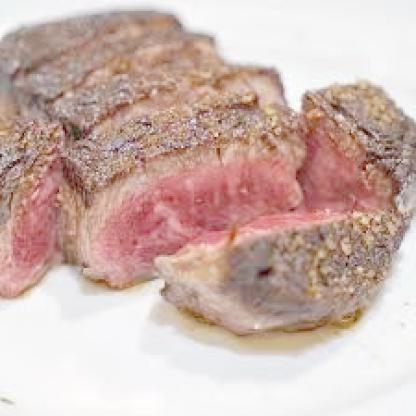Carne: (62, 80, 299, 285), (163, 206, 397, 339), (57, 42, 259, 148), (2, 109, 50, 301)
